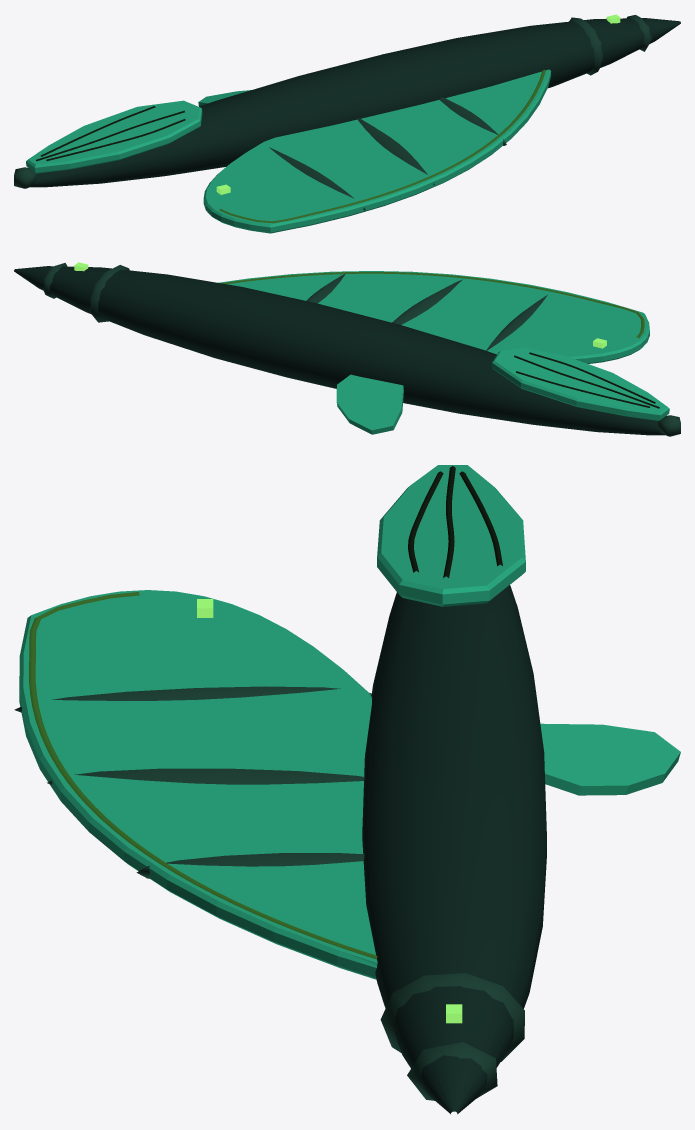
The model's file is glider-pelagia.glb.
The picture shows the model from 3 angles, top to bottom: view 1: azimuth 30°, elevation 25°; view 2: azimuth 150°, elevation 25°; view 3: azimuth 270°, elevation 25°; orthographic projection. The views are drawn at different scales.
Parts seen in each view (by area): view 1: stem, wing_s, tail_fluke, wing_vein_s, tail, wing_ring_s1, wing_ring_s2, stem_ring_1, wing_ring_s0, tail_knuckle; view 2: stem, wing_s, tail_fluke, trim_vane_p, wing_vein_s, tail, wing_ring_s1, stem_ring_1, wing_ring_s2, tail_knuckle, wing_ring_s0, stem_ring_0; view 3: wing_s, stem, tail_fluke, trim_vane_p, wing_ring_s1, wing_vein_s, stem_ring_1, wing_ring_s2, wing_ring_s0, tail, stem_ring_0.
Boxes of the visible parts, <box> form: stem: <box>30,18,680,187</box>; wing_s: <box>203,69,551,233</box>; tail_fluke: <box>26,100,202,173</box>; wing_vein_s: <box>219,69,545,223</box>; tail: <box>36,106,185,161</box>; wing_ring_s1: <box>357,118,434,185</box>; wing_ring_s2: <box>269,147,365,210</box>; stem_ring_1: <box>569,17,603,75</box>; wing_ring_s0: <box>439,97,506,145</box>; tail_knuckle: <box>14,167,36,188</box>; stem: <box>14,266,675,435</box>; wing_s: <box>218,271,649,363</box>; tail_fluke: <box>491,347,669,420</box>; trim_vane_p: <box>336,374,403,434</box>; wing_vein_s: <box>221,272,644,338</box>; tail: <box>514,352,659,408</box>; wing_ring_s1: <box>392,279,462,324</box>; stem_ring_1: <box>89,265,129,322</box>; wing_ring_s2: <box>486,295,547,350</box>; tail_knuckle: <box>658,415,680,436</box>; wing_ring_s0: <box>306,273,345,303</box>; stem_ring_0: <box>43,262,67,298</box>; wing_s: <box>19,590,377,979</box>; stem: <box>362,585,546,1114</box>; tail_fluke: <box>377,465,525,606</box>; trim_vane_p: <box>540,723,680,795</box>; wing_ring_s1: <box>47,768,364,785</box>; wing_vein_s: <box>29,592,377,959</box>; stem_ring_1: <box>380,973,524,1061</box>; wing_ring_s2: <box>14,686,371,712</box>; wing_ring_s0: <box>136,853,364,878</box>; tail: <box>408,466,502,577</box>; stem_ring_0: <box>407,1042,497,1100</box>.
Bounding box in the file's own units: 55 × 5.4 × 24.65.
